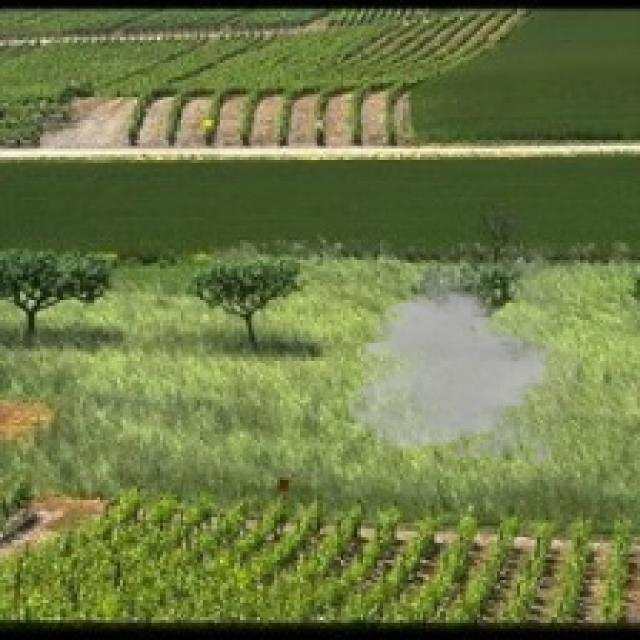smoke: (343, 260, 580, 474)
